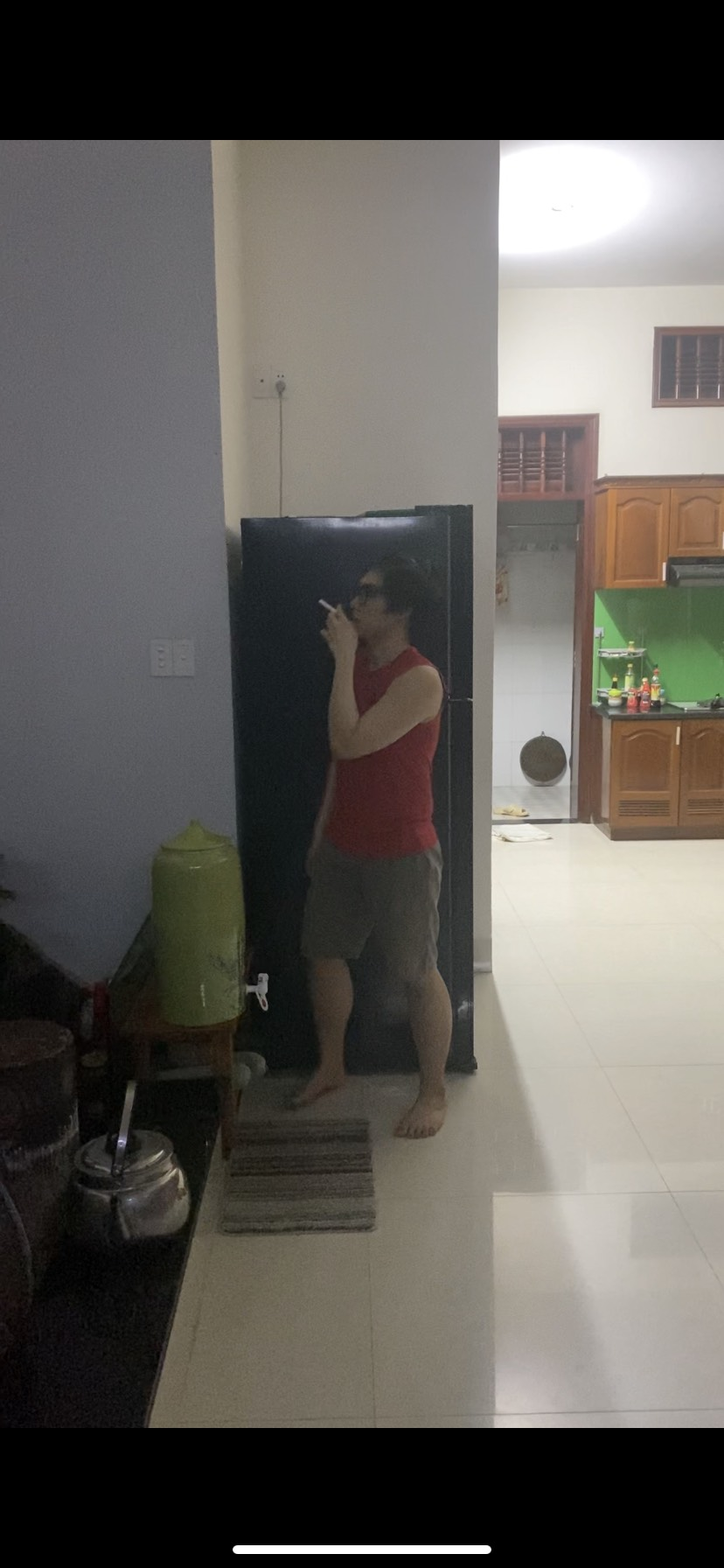cigarette: (312, 593, 338, 617)
person: (295, 557, 454, 1144)
